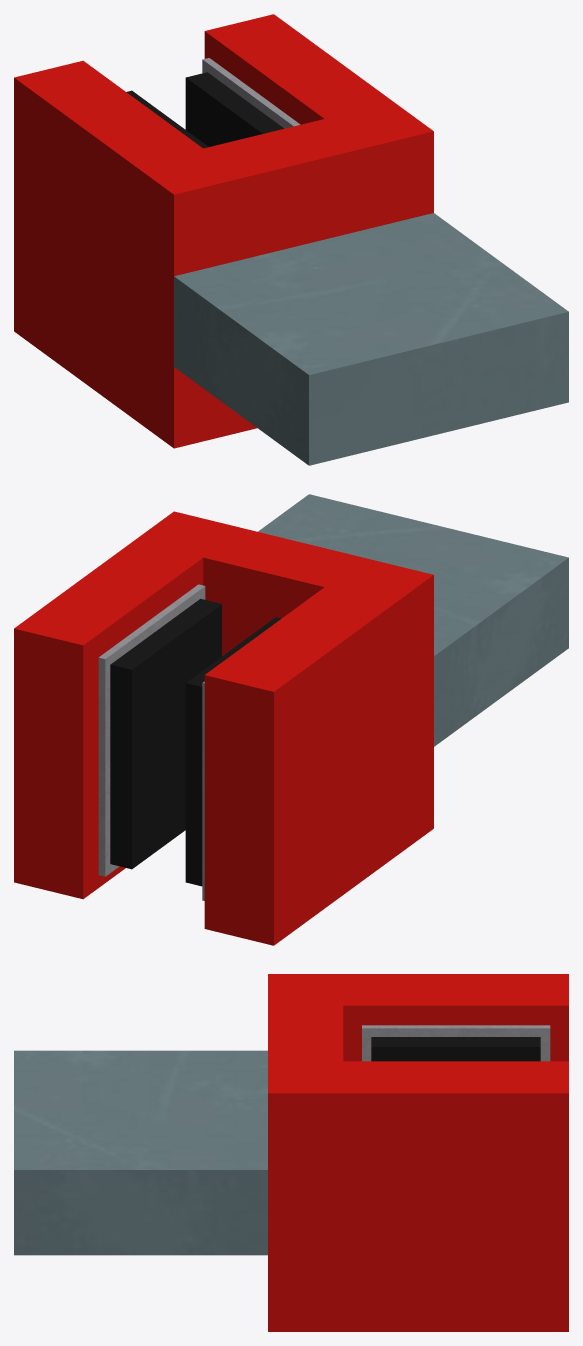
Rendered from brake_caliper_ok.glb.
3 views of the same model, one above another, from view 1: azimuth 30°, elevation 25°; view 2: azimuth 150°, elevation 25°; view 3: azimuth 270°, elevation 25° (orthographic). The views are drawn at different scales.
Parts seen in each view (by area): view 1: brake_caliper_ok; view 2: brake_caliper_ok; view 3: brake_caliper_ok.
Boxes of the visible parts, x1=… form: brake_caliper_ok: x1=14, y1=14, x2=568, y2=465; brake_caliper_ok: x1=14, y1=494, x2=568, y2=945; brake_caliper_ok: x1=14, y1=974, x2=568, y2=1331.
Size of the model in its own units: 0.3 by 0.28 by 0.59.
Materials: 4 (2 with a texture image).
